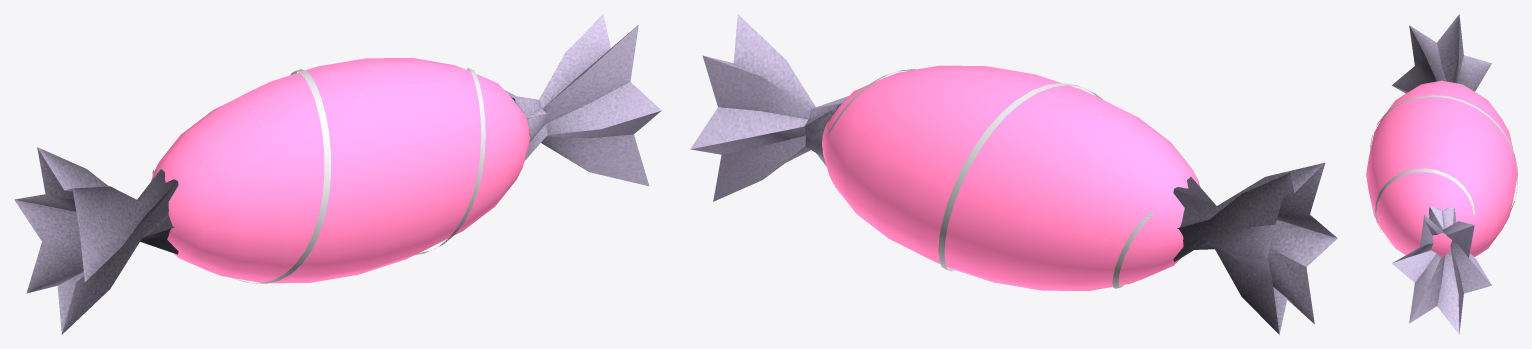
The picture shows the model from 3 angles, left to right: view 1: azimuth 30°, elevation 25°; view 2: azimuth 150°, elevation 25°; view 3: azimuth 270°, elevation 25°; orthographic projection. The views are drawn at different scales.
Visible parts, largest first — view 1: glow_Jelly_—_choose_CandyTint_attribute, Clear_pastel_iridescent_cellophane, White_sugar_spiral; view 2: glow_Jelly_—_choose_CandyTint_attribute, Clear_pastel_iridescent_cellophane, White_sugar_spiral; view 3: glow_Jelly_—_choose_CandyTint_attribute, Clear_pastel_iridescent_cellophane, White_sugar_spiral.
Boxes of the visible parts, bbox=[...] form: glow_Jelly_—_choose_CandyTint_attribute: bbox=[151, 58, 529, 283]; Clear_pastel_iridescent_cellophane: bbox=[14, 14, 661, 334]; White_sugar_spiral: bbox=[152, 68, 485, 283]; glow_Jelly_—_choose_CandyTint_attribute: bbox=[822, 65, 1200, 290]; Clear_pastel_iridescent_cellophane: bbox=[690, 14, 1337, 334]; White_sugar_spiral: bbox=[828, 69, 1154, 288]; glow_Jelly_—_choose_CandyTint_attribute: bbox=[1366, 80, 1517, 257]; Clear_pastel_iridescent_cellophane: bbox=[1392, 14, 1491, 334]; White_sugar_spiral: bbox=[1370, 95, 1517, 245].
Bounding box in the file's own units: 1 × 0.32 × 0.3205.
Materials: 3 (3 with a texture image).
